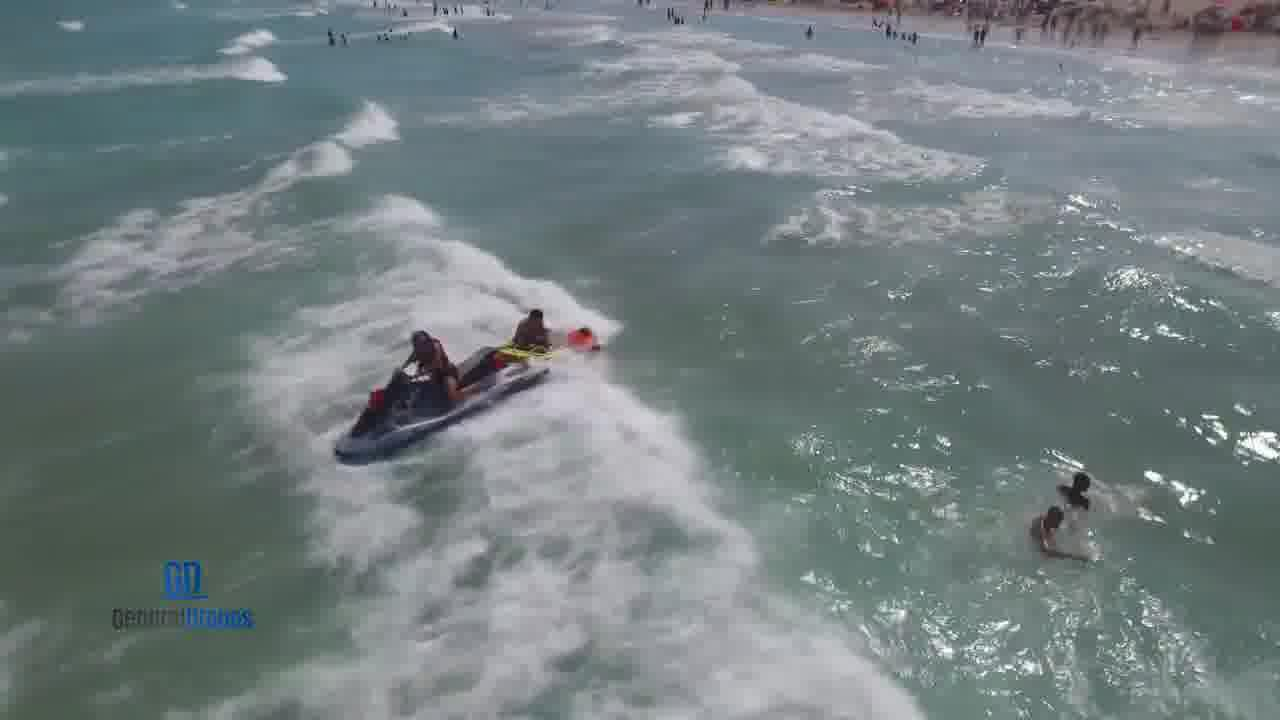swimmer: (1048, 461, 1112, 503), (562, 320, 621, 362), (1021, 498, 1067, 548), (510, 300, 551, 346)
